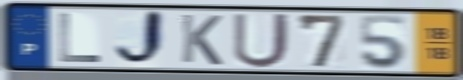5: (358, 13, 409, 72)
7: (295, 13, 350, 69)
J: (112, 8, 169, 69)
K: (179, 12, 225, 67)
L: (56, 12, 103, 65)
U: (231, 11, 293, 71)
